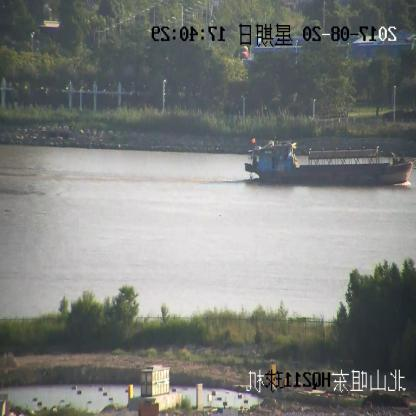Fishing Boat: (245, 139, 415, 186)
